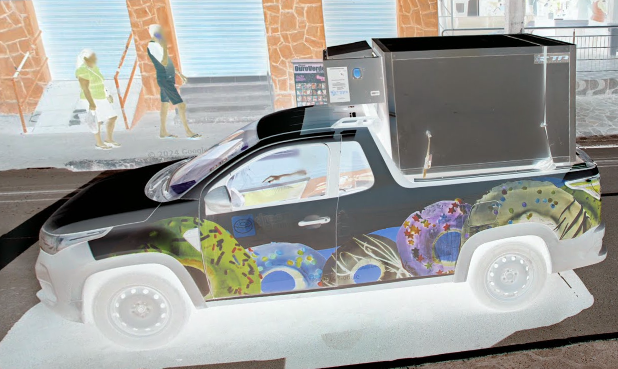car: (35, 108, 608, 349)
